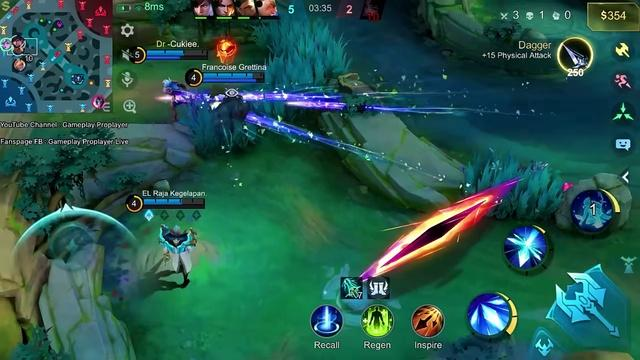bush: (248, 74, 640, 228), (148, 8, 428, 26)
